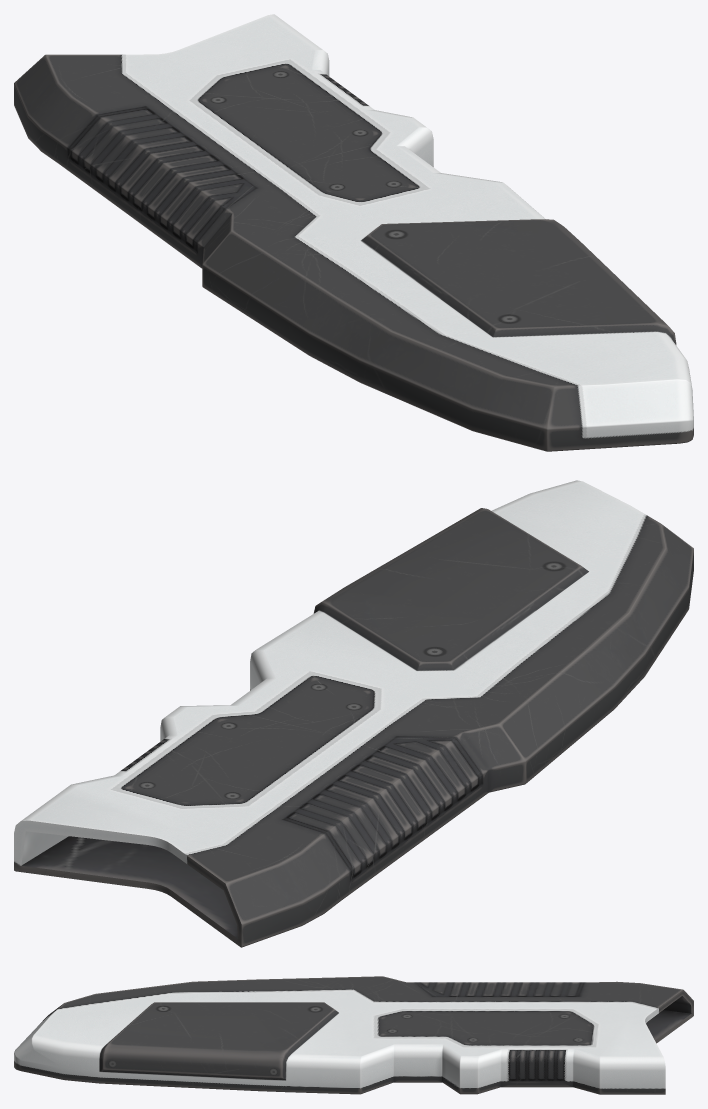
The model's file is MeleeKnife02_2.FBX.
3 renders of one model, top to bottom at view 1: azimuth 30°, elevation 25°; view 2: azimuth 150°, elevation 25°; view 3: azimuth 270°, elevation 25°, orthographic. The views are drawn at different scales.
Parts seen in each view (by area): view 1: MeleeKnife02_2; view 2: MeleeKnife02_2; view 3: MeleeKnife02_2.
Boxes of the visible parts, <box> form: MeleeKnife02_2: <box>14,14,693,451</box>; MeleeKnife02_2: <box>14,480,693,947</box>; MeleeKnife02_2: <box>14,976,693,1094</box>.
Size of what is drawn, in the model's own units: 0.0833 by 0.0158 by 0.2565.
